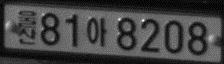0: (163, 19, 184, 53)
1: (63, 13, 83, 46)
2: (139, 17, 160, 52)
8: (39, 11, 60, 46), (187, 22, 208, 56), (117, 17, 137, 51)
아: (86, 16, 107, 46)
울산_V: (17, 9, 37, 45)
